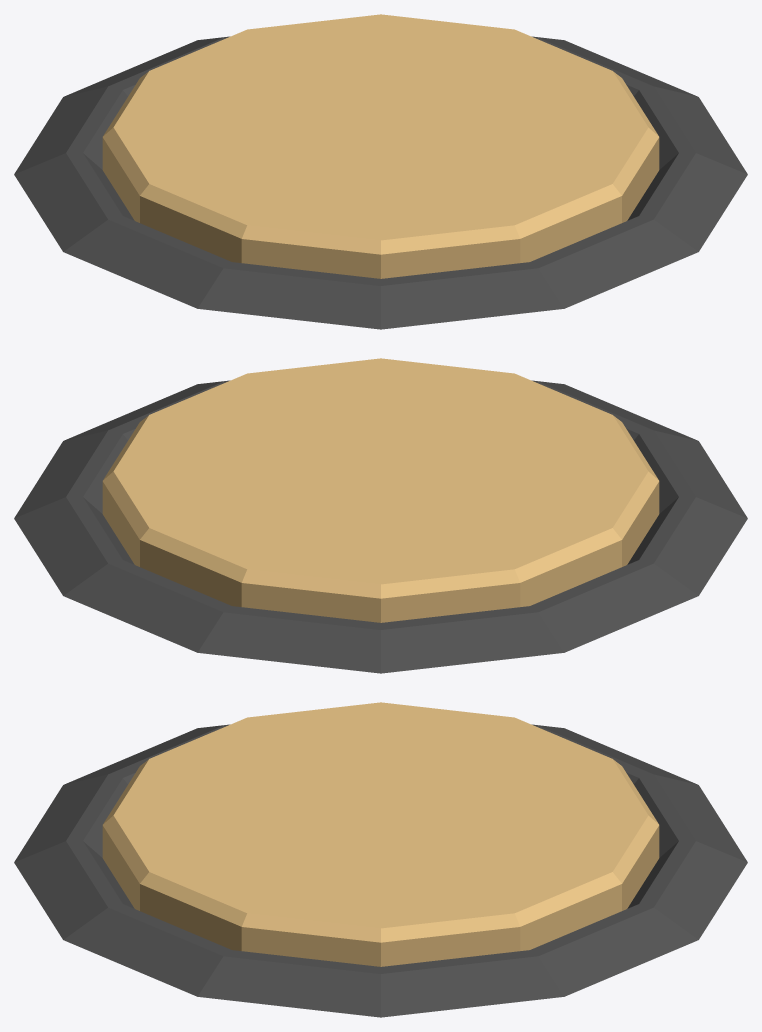
Rendered from PressurePlate.fbx.
3 views of the same model, one above another, from view 1: azimuth 30°, elevation 25°; view 2: azimuth 150°, elevation 25°; view 3: azimuth 270°, elevation 25° (orthographic).
Visible parts, largest first — view 1: PressurePlate_Button, PressurePlate_Base; view 2: PressurePlate_Button, PressurePlate_Base; view 3: PressurePlate_Button, PressurePlate_Base.
Boxes of the visible parts, box(x1,y1,x2,y2) form: PressurePlate_Button: box(102, 14, 659, 278); PressurePlate_Base: box(14, 36, 747, 329); PressurePlate_Button: box(102, 358, 659, 622); PressurePlate_Base: box(14, 380, 747, 673); PressurePlate_Button: box(102, 702, 659, 966); PressurePlate_Base: box(14, 724, 747, 1017).
Bounding box in the file's own units: 233 × 22.71 × 233.
